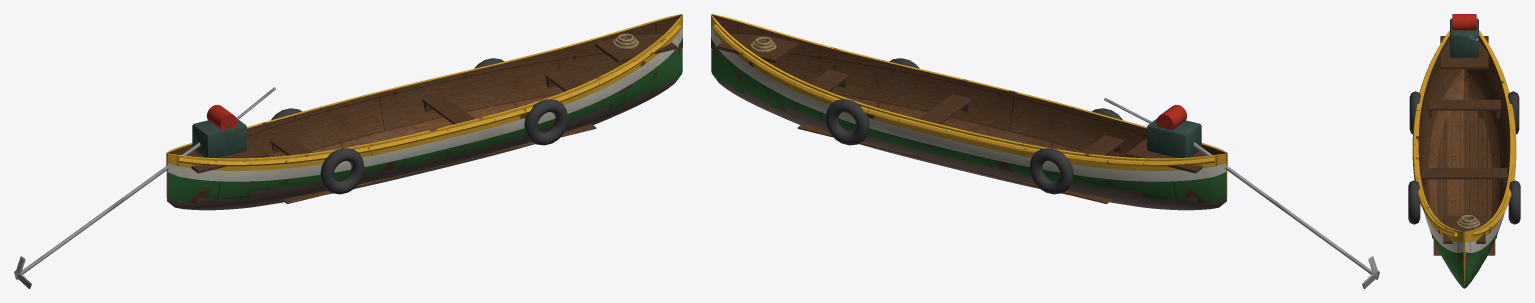
Rendered from jukung_hijau.glb.
3 views of the same model, side by side, from view 1: azimuth 30°, elevation 25°; view 2: azimuth 150°, elevation 25°; view 3: azimuth 270°, elevation 25° (orthographic). The views are drawn at different scales.
Parts seen in each view (by area): view 1: jukung_hijau_badan; view 2: jukung_hijau_badan; view 3: jukung_hijau_badan.
Part boxes in pixels (x1,y1,x2,y2): jukung_hijau_badan: [21, 14, 682, 274]; jukung_hijau_badan: [711, 14, 1372, 274]; jukung_hijau_badan: [1408, 14, 1520, 288].
Size of the model in its own units: 8.51 by 1.58 by 1.39.
Materials: 11 (9 with a texture image).
